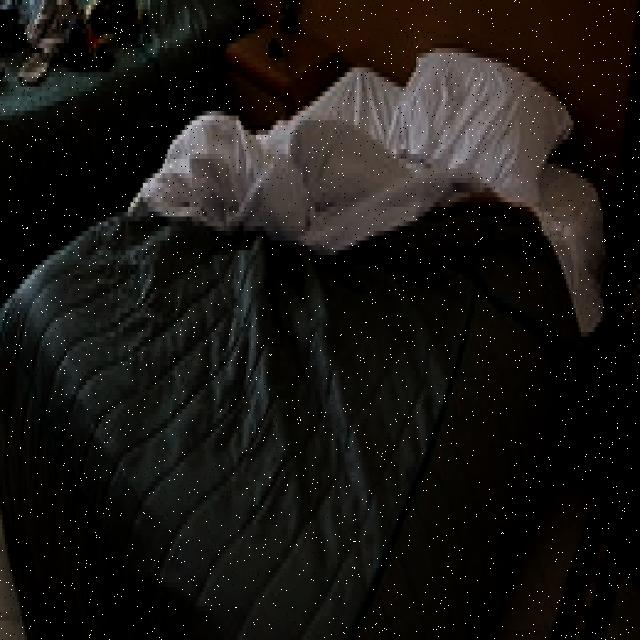bed: (0, 43, 615, 639)
